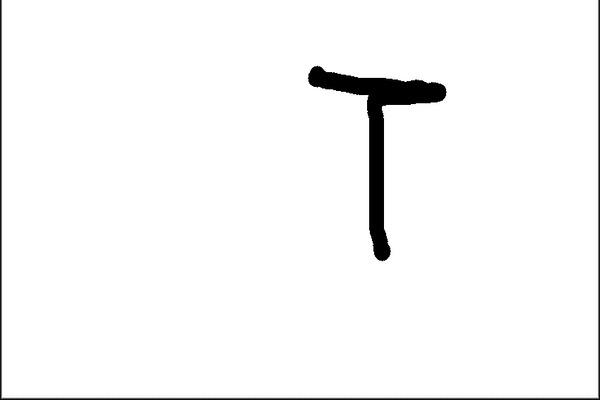T: (292, 53, 453, 261)
